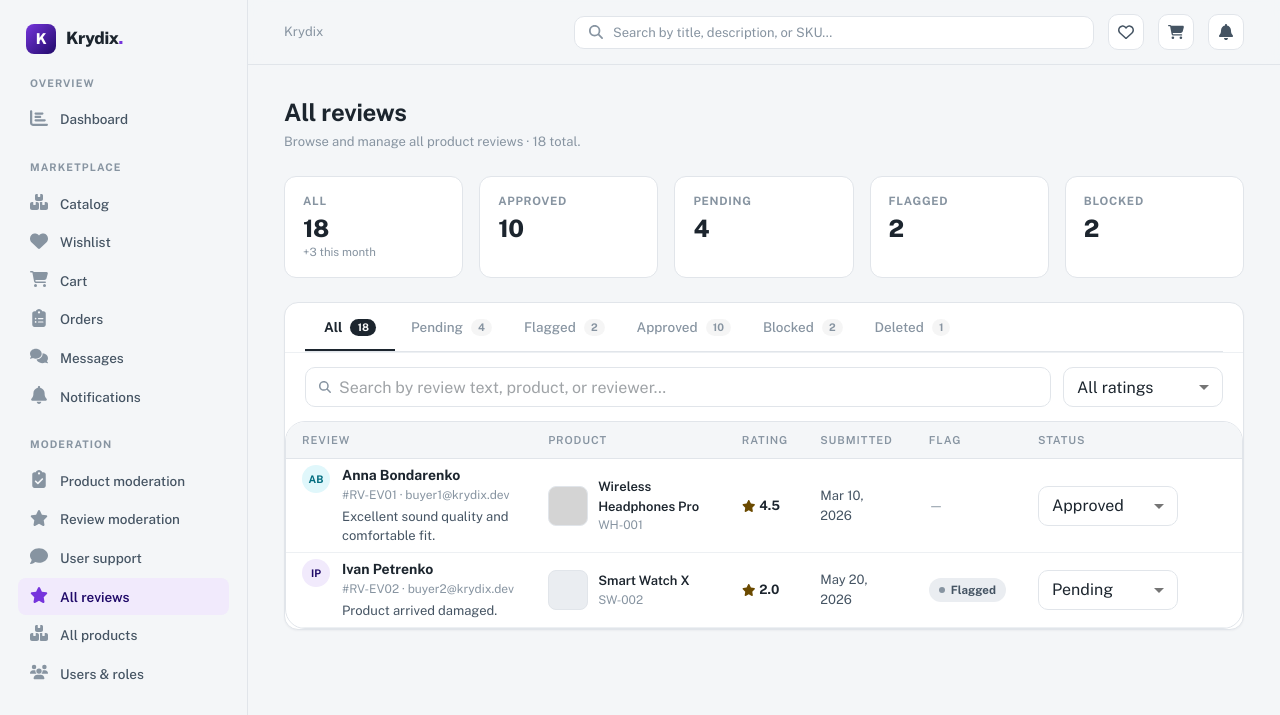
Test: ReviewsManagementPage — Moderator › allows moderator to change review status
The width and height of the screenshot is (1280, 715).
Step 1. Click the dropdown labelled "Approved" → (1088, 506), box [1052, 496, 1124, 515]
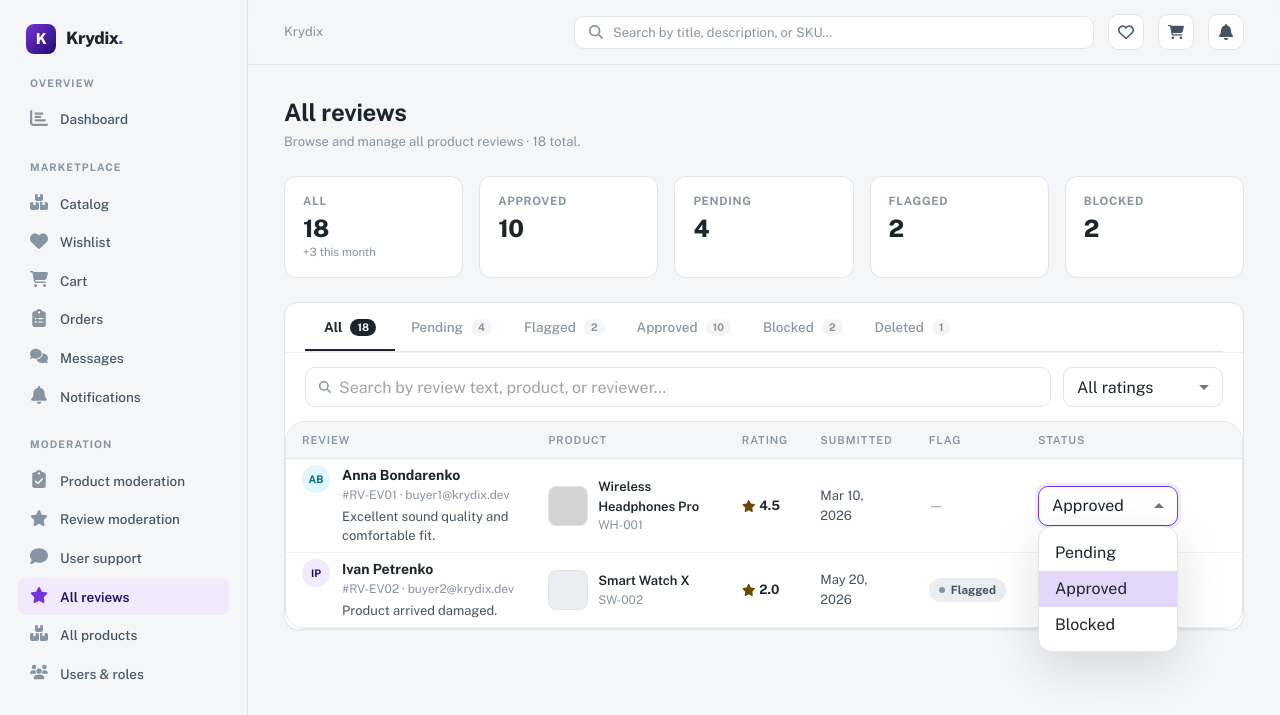
Step 2. Click the option "Pending" → (1086, 553), box [1055, 543, 1116, 562]
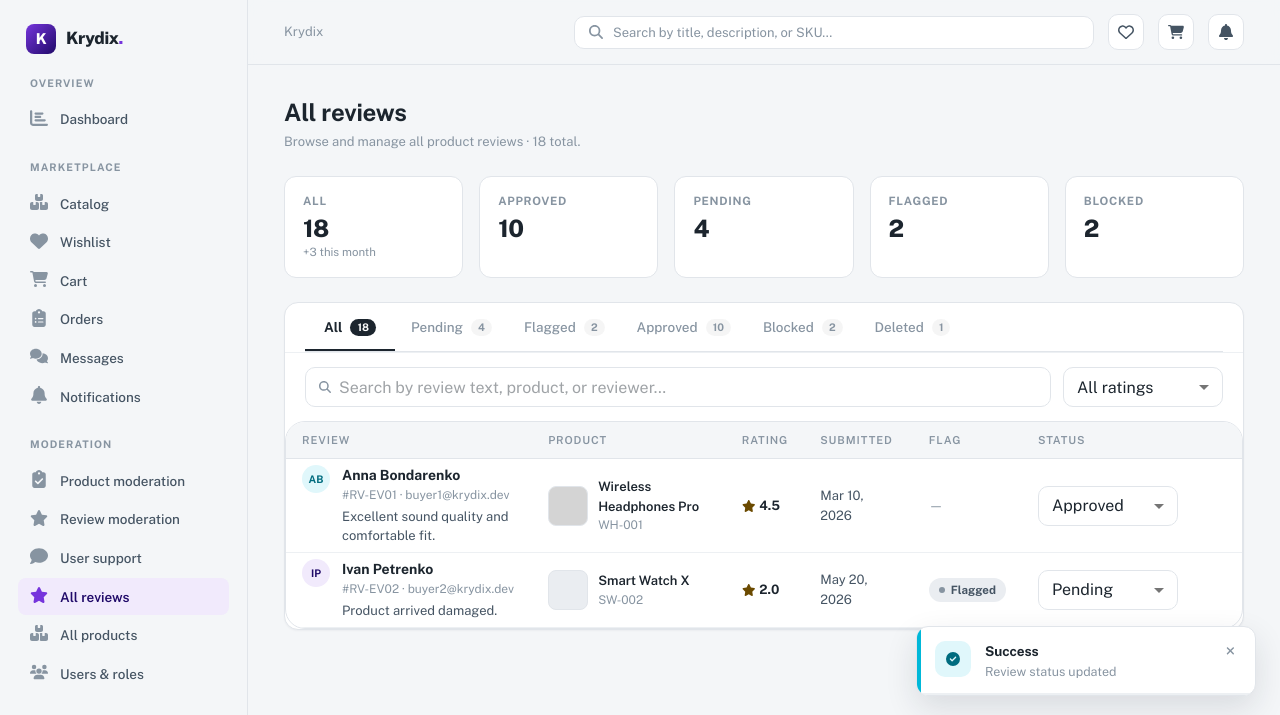
Result: the text "Review status updated" is shown at [985, 664, 1116, 679]
